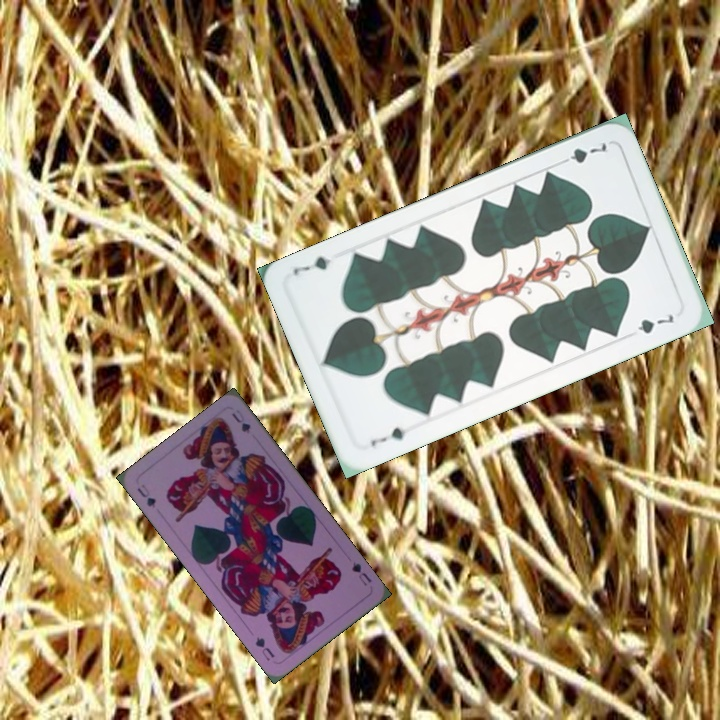G7: (554, 138, 610, 168), (366, 423, 416, 450)
GU: (133, 480, 159, 511), (348, 558, 374, 588)
